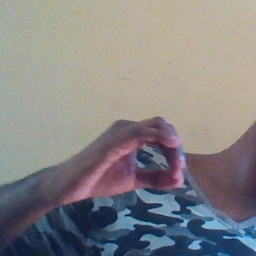O: (71, 108, 190, 204)
